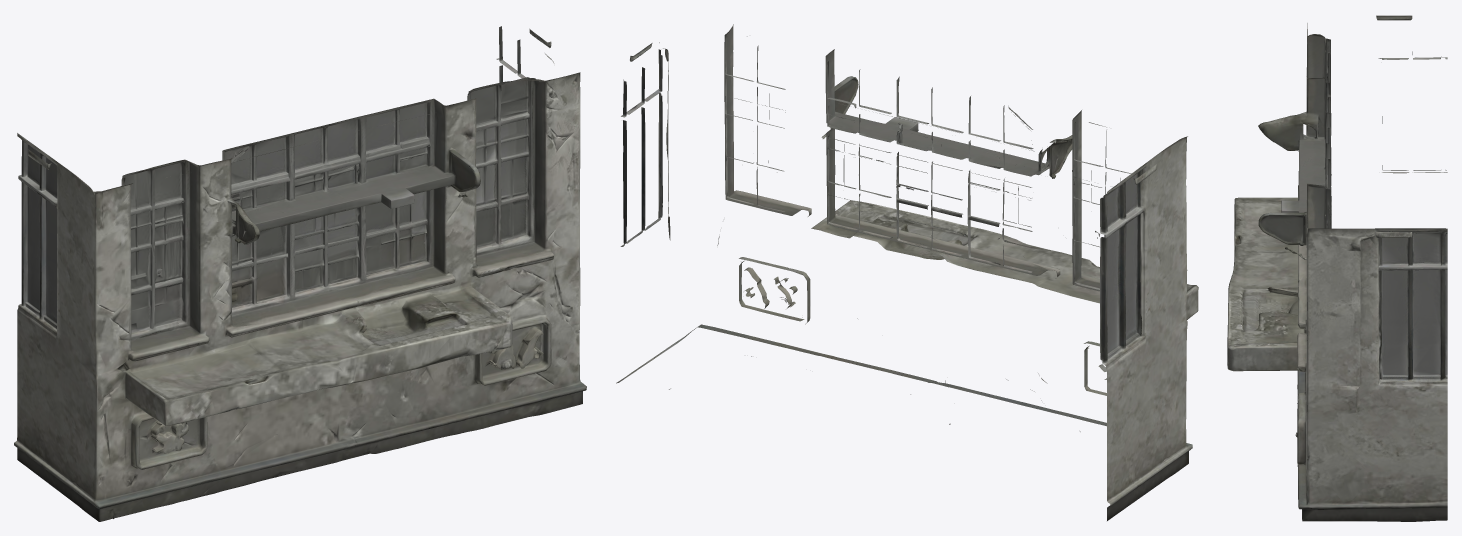
The model's file is office.glb.
3 views of the same model, side by side, from view 1: azimuth 30°, elevation 25°; view 2: azimuth 150°, elevation 25°; view 3: azimuth 270°, elevation 25° (orthographic). The views are drawn at different scales.
Parts seen in each view (by area): view 1: facade; view 2: facade; view 3: facade.
Boxes of the visible parts, <box> form: facade: <box>14,26,586,521</box>; facade: <box>616,24,1198,520</box>; facade: <box>1227,15,1447,521</box>.
Size of the model in its own units: 0.9655 by 0.6059 by 0.4118.
Materials: 1 (1 with a texture image).
